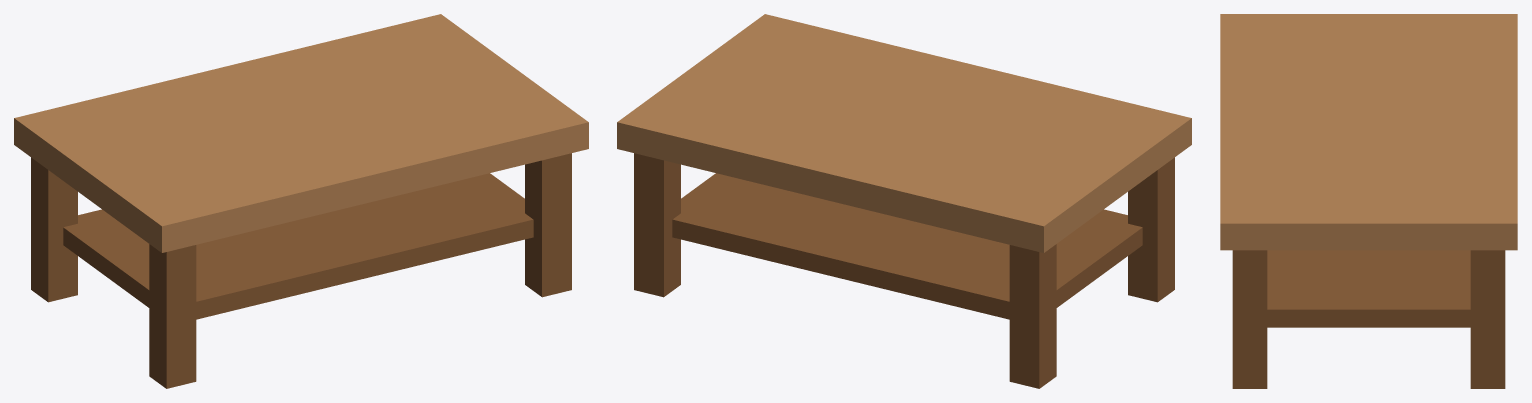
File: coffeeTable.glb
3 renders of one model, left to right at view 1: azimuth 30°, elevation 25°; view 2: azimuth 150°, elevation 25°; view 3: azimuth 270°, elevation 25°, orthographic.
Visible parts, largest first — view 1: coffeeTable; view 2: coffeeTable; view 3: coffeeTable.
Boxes of the visible parts, bbox=[...] form: coffeeTable: bbox=[14, 14, 588, 388]; coffeeTable: bbox=[617, 14, 1191, 388]; coffeeTable: bbox=[1220, 14, 1517, 388].
Size of the model in its own units: 0.5 by 0.19 by 0.3.
1 material, 1 textured.
